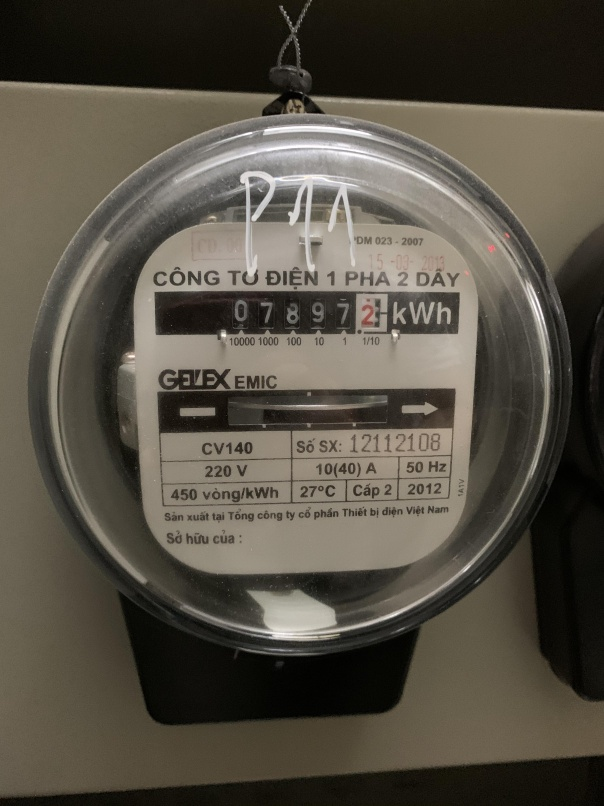counter: (154, 288, 462, 334)
electricity_meter: (35, 118, 566, 646)
